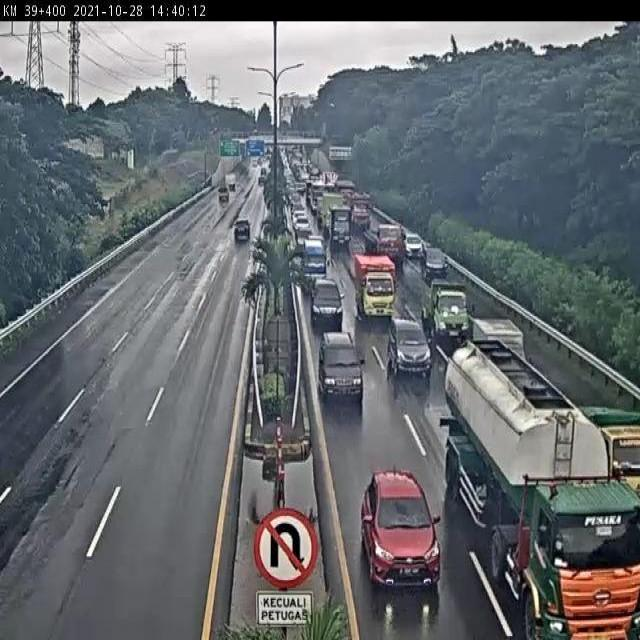bus-s-: (301, 238, 327, 290)
car: (360, 463, 443, 589), (317, 328, 366, 401), (386, 312, 432, 375), (308, 273, 344, 331), (422, 245, 448, 280), (402, 230, 425, 258)
truck-m-: (422, 276, 470, 340), (353, 249, 397, 315)
truck-xl-: (444, 332, 640, 640)
